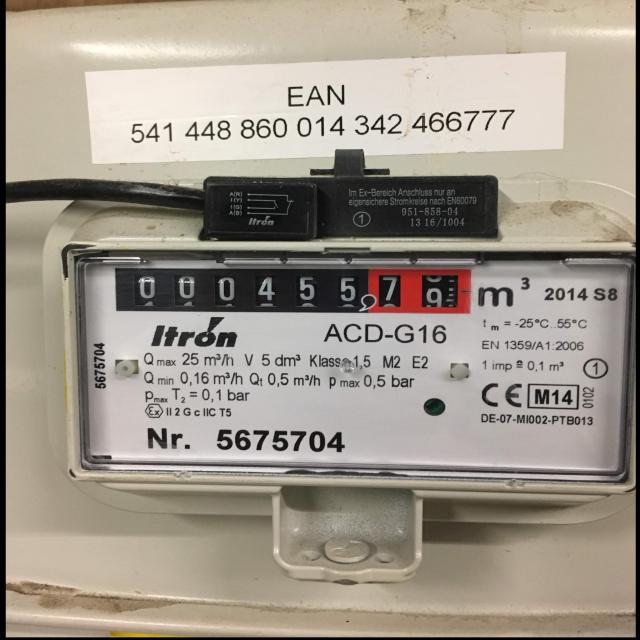gaz_meter: (70, 239, 626, 482)
indication: (113, 266, 463, 314)
